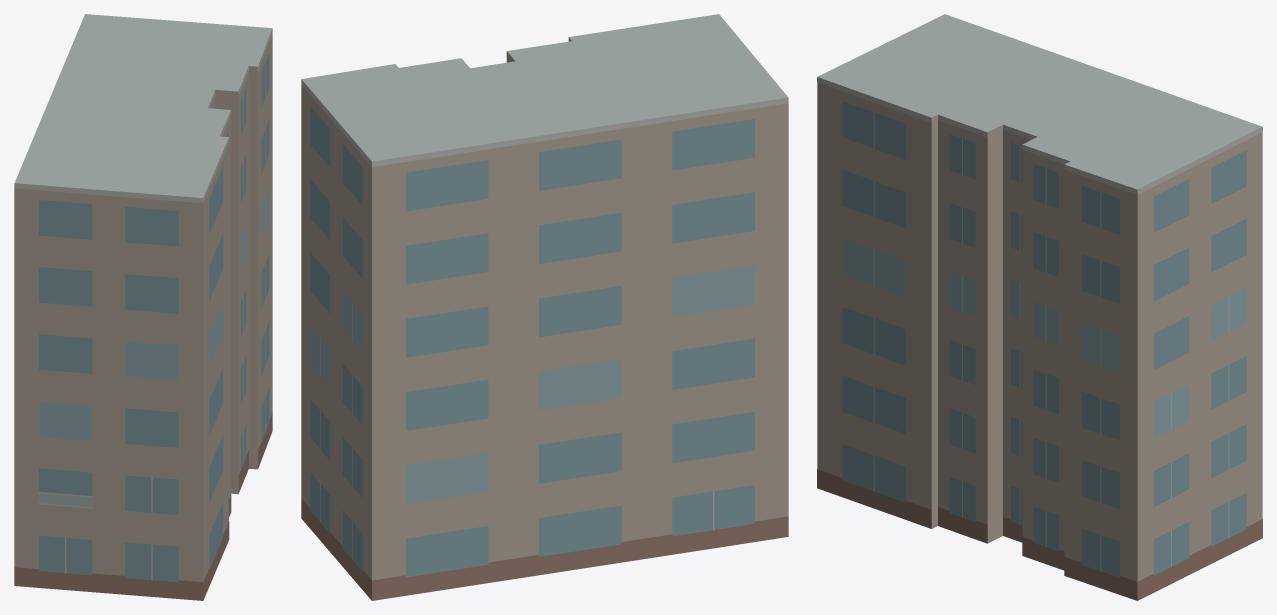
Rendered from survey-upis-32626737.glb.
The picture shows the model from 3 angles, left to right: view 1: azimuth 30°, elevation 25°; view 2: azimuth 150°, elevation 25°; view 3: azimuth 270°, elevation 25°; orthographic projection. The views are drawn at different scales.
Visible parts, largest first — view 1: survey-upis-32626737.tmp; view 2: survey-upis-32626737.tmp; view 3: survey-upis-32626737.tmp.
Part boxes in pixels (x1,y1,x2,y2): survey-upis-32626737.tmp: (14,14,272,600); survey-upis-32626737.tmp: (301,14,788,600); survey-upis-32626737.tmp: (817,14,1262,600).
Size of the model in its own units: 17.31 by 18.9 by 18.57.
